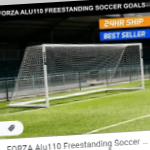goals: (7, 42, 145, 107)
